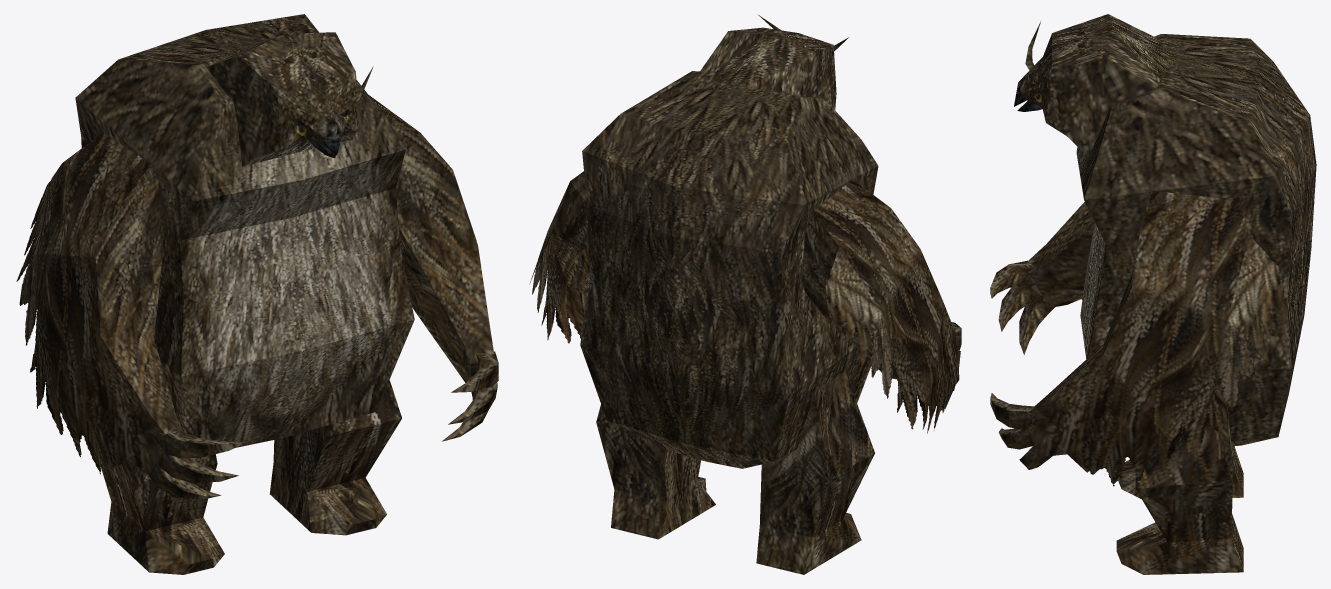
File: wildkin.obj
3 views of the same model, side by side, from view 1: azimuth 30°, elevation 25°; view 2: azimuth 150°, elevation 25°; view 3: azimuth 270°, elevation 25° (orthographic). The views are drawn at different scales.
Parts seen in each view (by area): view 1: Body, ArmRight, ArmLeft, Head, LegLeft, LegRight; view 2: Body, ArmRight, LegRight, LegLeft, Head, ArmLeft; view 3: Body, ArmLeft, LegLeft, Head, ArmRight, LegRight.
Boxes of the visible parts, x1,y1,x2,y2 form: Body: (75, 14, 414, 447); ArmRight: (16, 132, 246, 499); ArmLeft: (369, 95, 498, 441); Head: (206, 32, 373, 166); LegLeft: (269, 380, 401, 535); LegRight: (100, 454, 224, 574); Body: (580, 71, 878, 468); ArmRight: (801, 178, 961, 433); LegRight: (756, 371, 874, 574); LegLeft: (596, 404, 715, 539); Head: (699, 15, 848, 109); ArmLeft: (529, 171, 589, 343); Body: (1076, 34, 1316, 446); ArmLeft: (990, 189, 1285, 486); LegLeft: (1116, 390, 1243, 574); Head: (1014, 14, 1173, 156); ArmRight: (990, 202, 1094, 354); LegRight: (1117, 446, 1243, 498).
Bounding box in the file's own units: 3.02 × 3.71 × 2.22.
